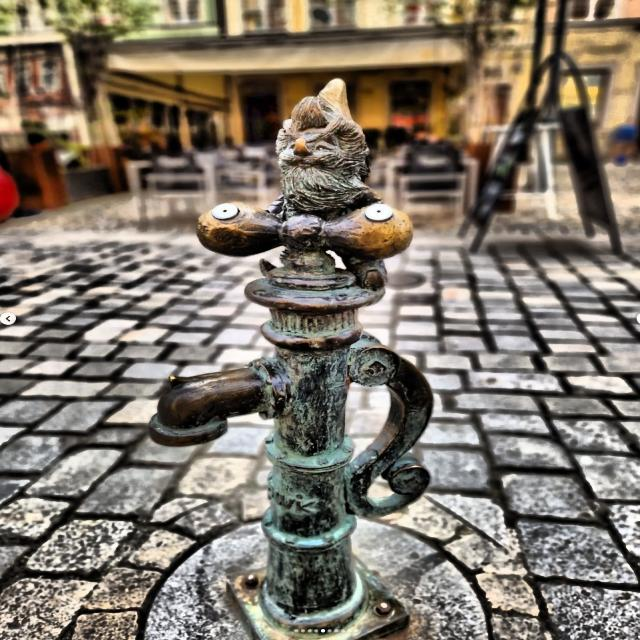Orzezwiacz: (157, 79, 433, 632)
